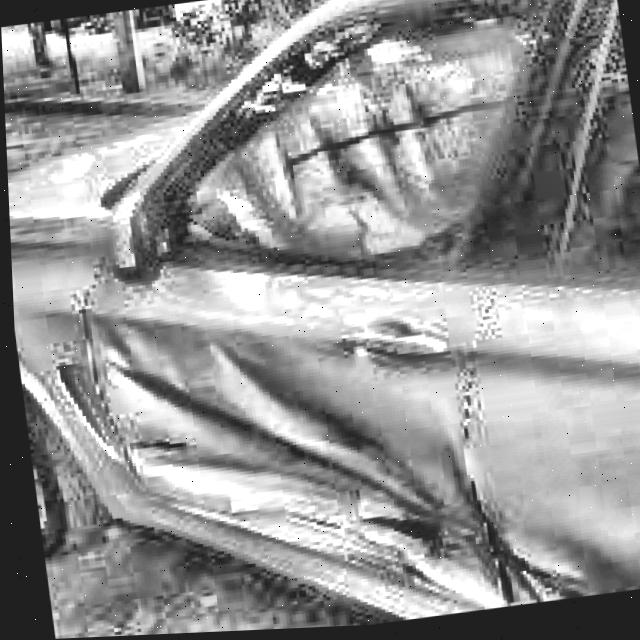door_dent: (125, 315, 498, 571)
